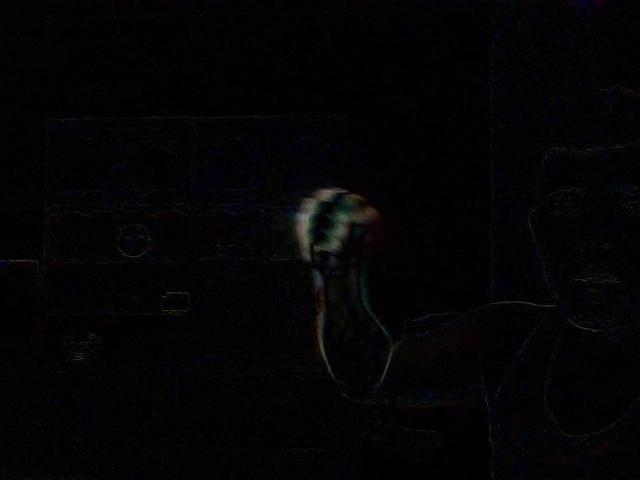hand_fi: (287, 177, 382, 270)
